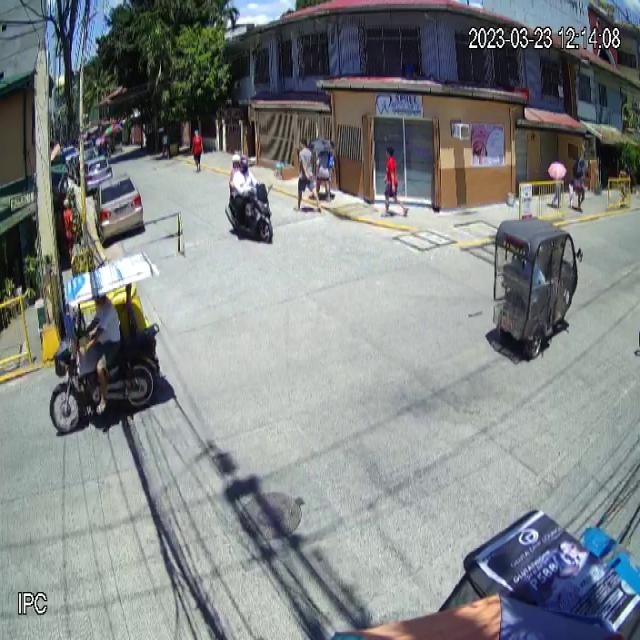Car: (92, 173, 144, 244)
Motorcycle: (224, 180, 274, 245)
Tricycle: (48, 257, 160, 432)
